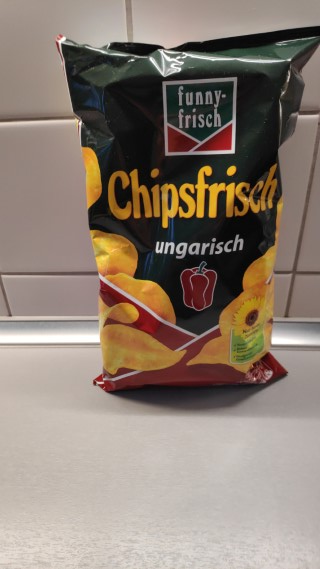chipsfrisch: (54, 26, 320, 394)
